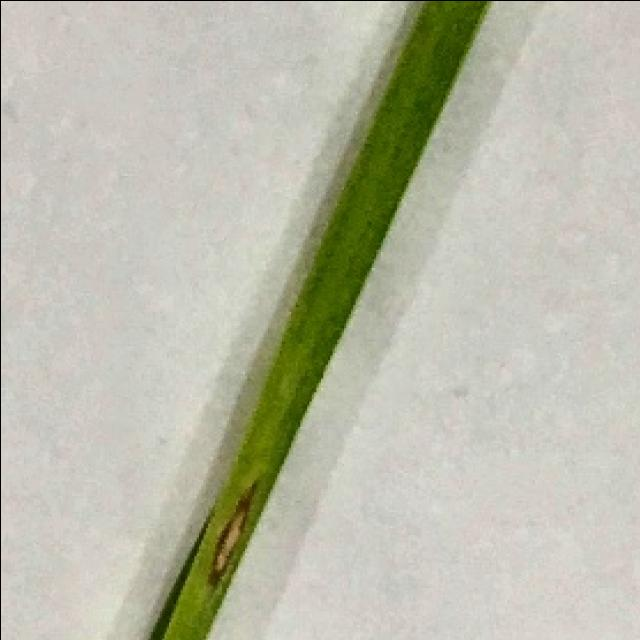Leaf_Blast: (188, 474, 286, 596)
